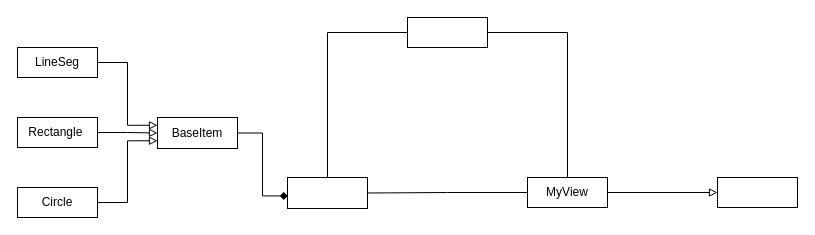
The diagram is 815 pixels wide and 235 high, and some of its shapes have lost their labels. The shapes that lost their labels are listed below. From the top down, each one's box as (x1, y1, x2, y2) in pixels, then its label:
(406, 16, 488, 48): MyController
(286, 176, 368, 208): MyDocument
(716, 176, 798, 208): IView
